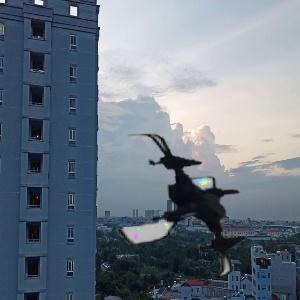drone: (108, 131, 263, 286)
